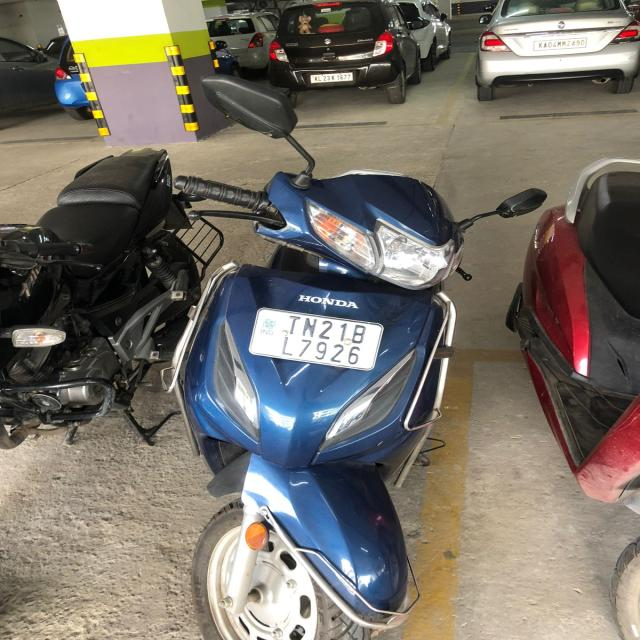license_plate: (247, 306, 384, 371)
